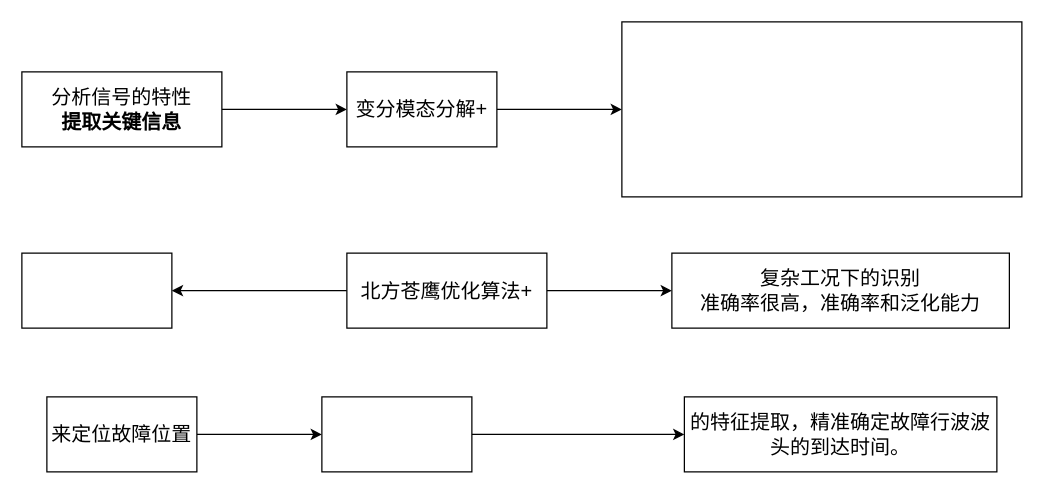
Image size: 1044x494. Some labels were removed from this diagram. The shapes that lost their labels are listed below. From the top down, each one's box as (x1, y1, x2, y2) in pixels, then its label:
(621, 21, 1022, 197): 有更好的抗噪性能和更高的分解 精度，能够有效解决模态混叠和端点效应等问题，能够更准确地分析信号的特 性并提取关键信息。
(21, 252, 172, 328): 故障识别
(321, 396, 472, 472): 小波变换+
